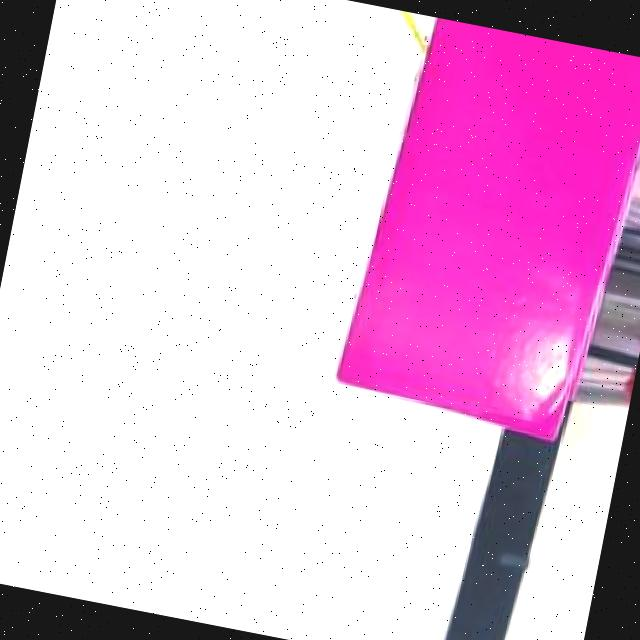xparking: (350, 15, 636, 438)
